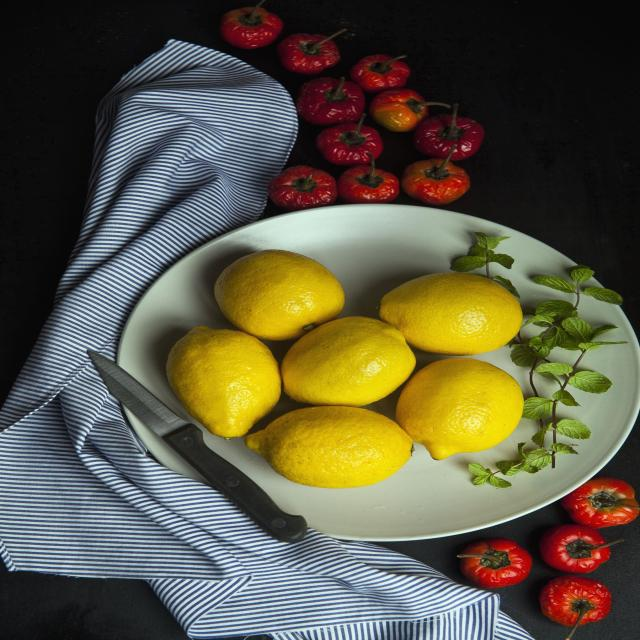lemon: (374, 272, 525, 357)
